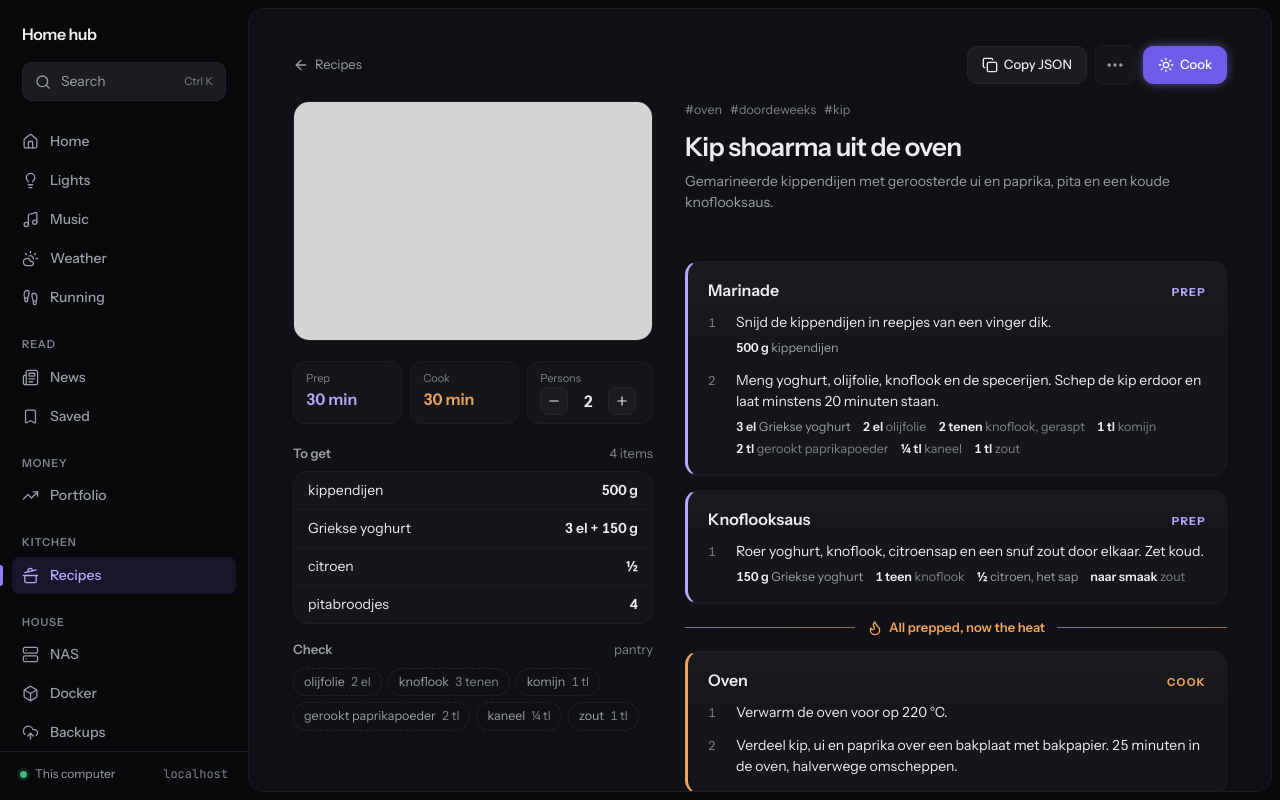
Scenario: RecipePage › undoes the last paste
Click the button named "Recipe actions" at (1115, 65), box [1095, 45, 1135, 85]
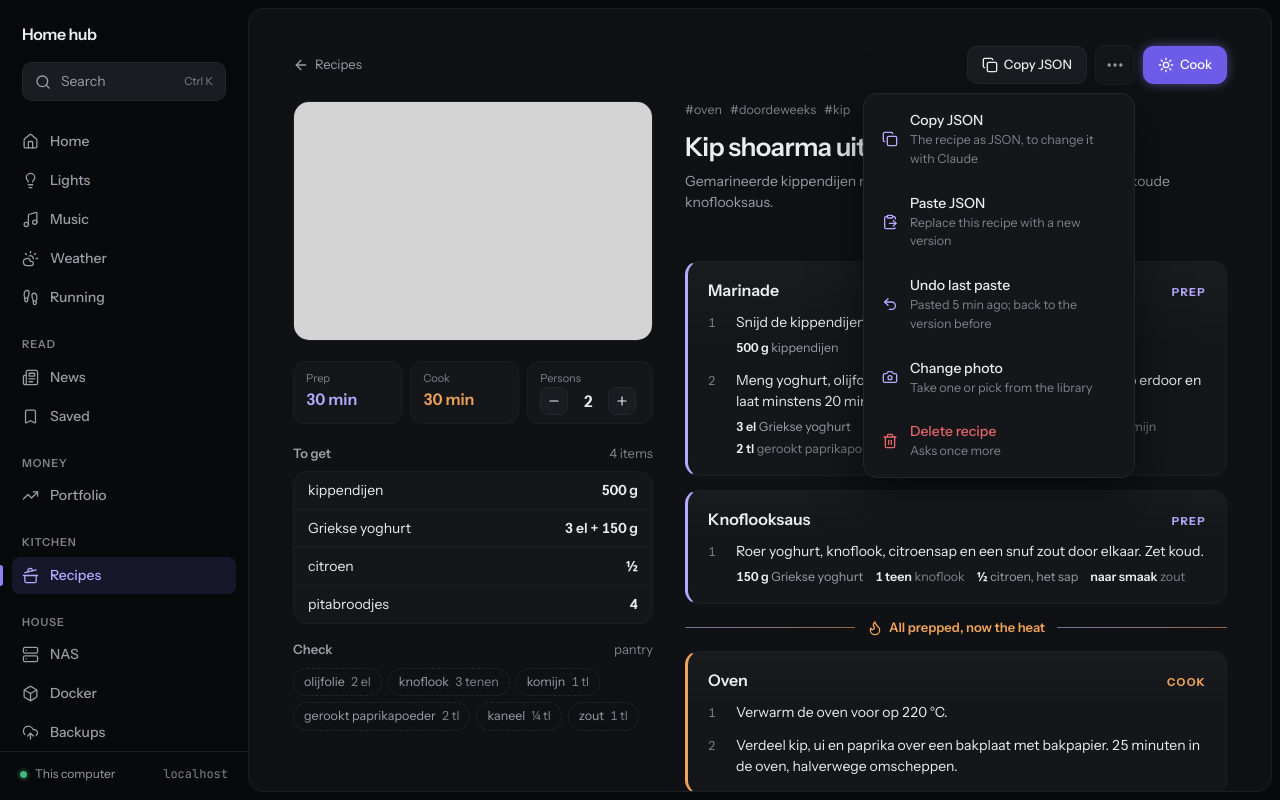
Click the menu item "Undo last paste Pasted 5 min ago; back to the version before" at (999, 304), box [870, 265, 1128, 344]
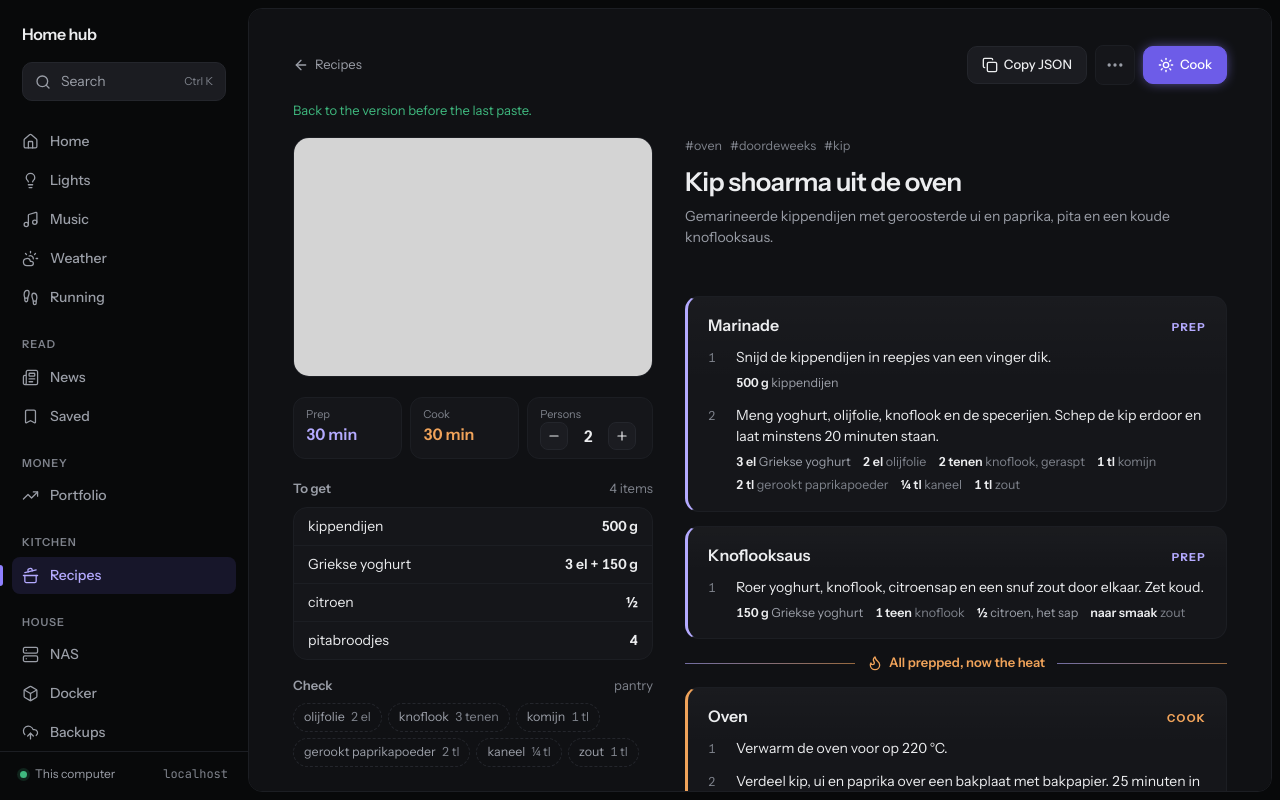
Check: the text "Back to the version before the last paste." is shown, box [293, 102, 532, 118]
